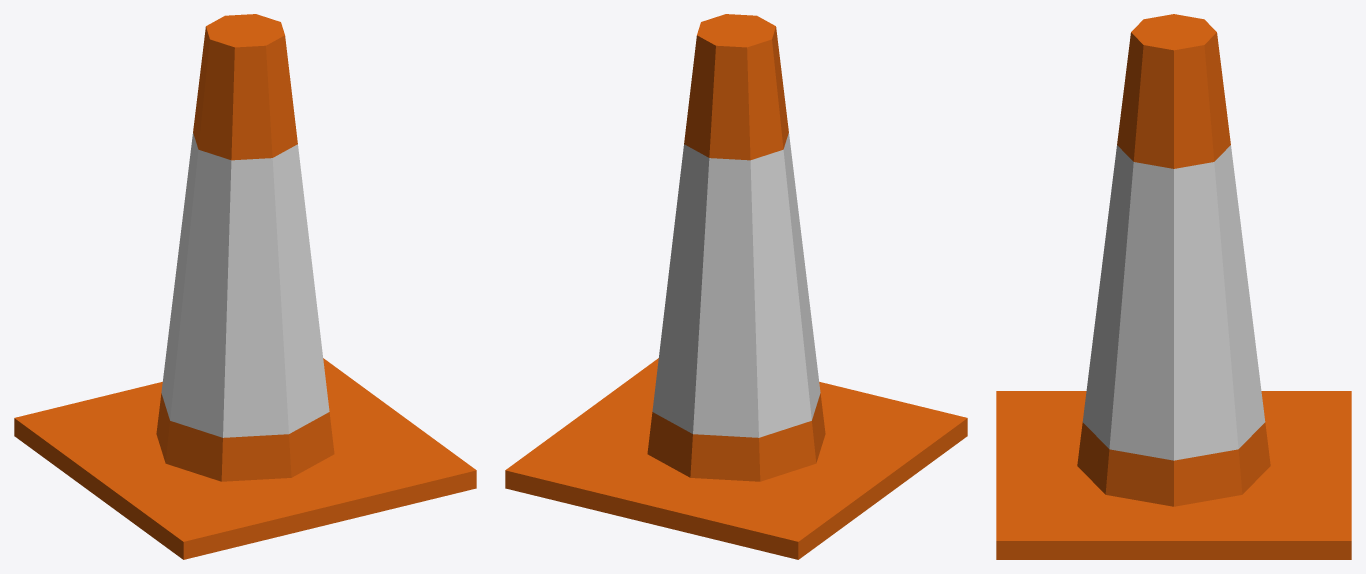
3 views of the same model, side by side, from view 1: azimuth 30°, elevation 25°; view 2: azimuth 150°, elevation 25°; view 3: azimuth 270°, elevation 25° (orthographic). The views are drawn at different scales.
Visible parts, largest first — view 1: Cube.011; view 2: Cube.011; view 3: Cube.011.
Part boxes in pixels (box(x1,y1,x2,y2)): Cube.011: box(14, 14, 476, 559); Cube.011: box(505, 14, 967, 559); Cube.011: box(996, 14, 1351, 559).
Size of the model in its own units: 1.9 by 2.67 by 1.9.
